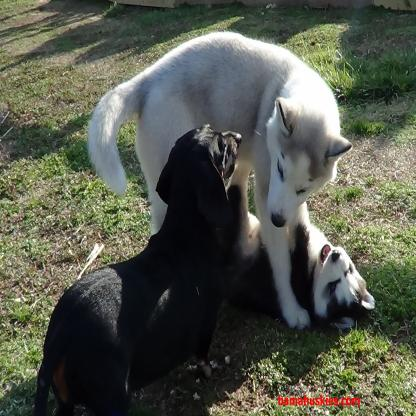husky: (86, 30, 349, 338), (232, 145, 378, 313)
